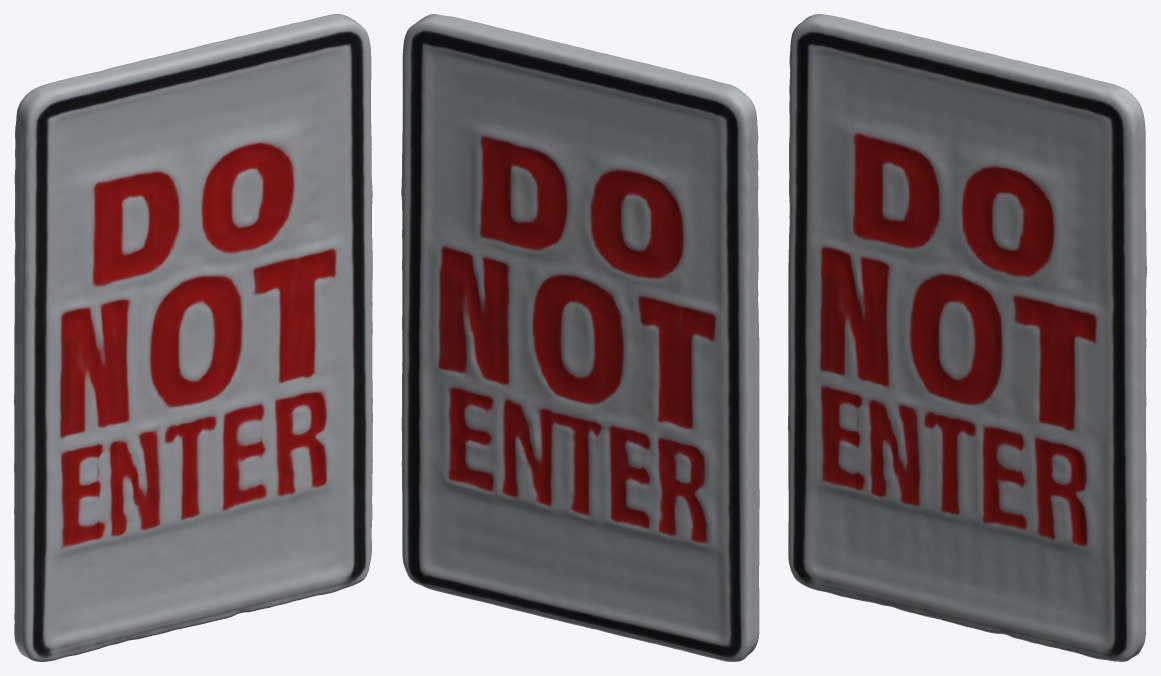
Rendered from ba03e47301ac_sign_do_not_enter__.fbx.
3 views of the same model, side by side, from view 1: azimuth 30°, elevation 25°; view 2: azimuth 150°, elevation 25°; view 3: azimuth 330°, elevation 25° (orthographic).
Parts seen in each view (by area): view 1: high_poly; view 2: high_poly; view 3: high_poly.
Part boxes in pixels (x1,y1,x2,y2): high_poly: (14, 14, 372, 661); high_poly: (401, 14, 759, 661); high_poly: (788, 14, 1146, 661).
Size of the model in its own units: 63.99 by 100 by 4.93.
